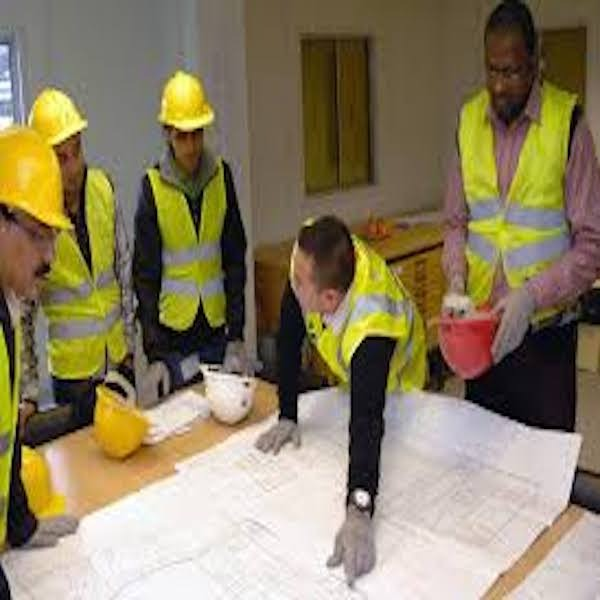helmet: (4, 129, 75, 225), (433, 312, 506, 371), (92, 389, 158, 452), (201, 365, 267, 422), (157, 71, 223, 127), (30, 90, 91, 148), (18, 445, 62, 519)
vest: (459, 91, 586, 297), (147, 145, 236, 342), (45, 168, 124, 374), (322, 251, 424, 384)
